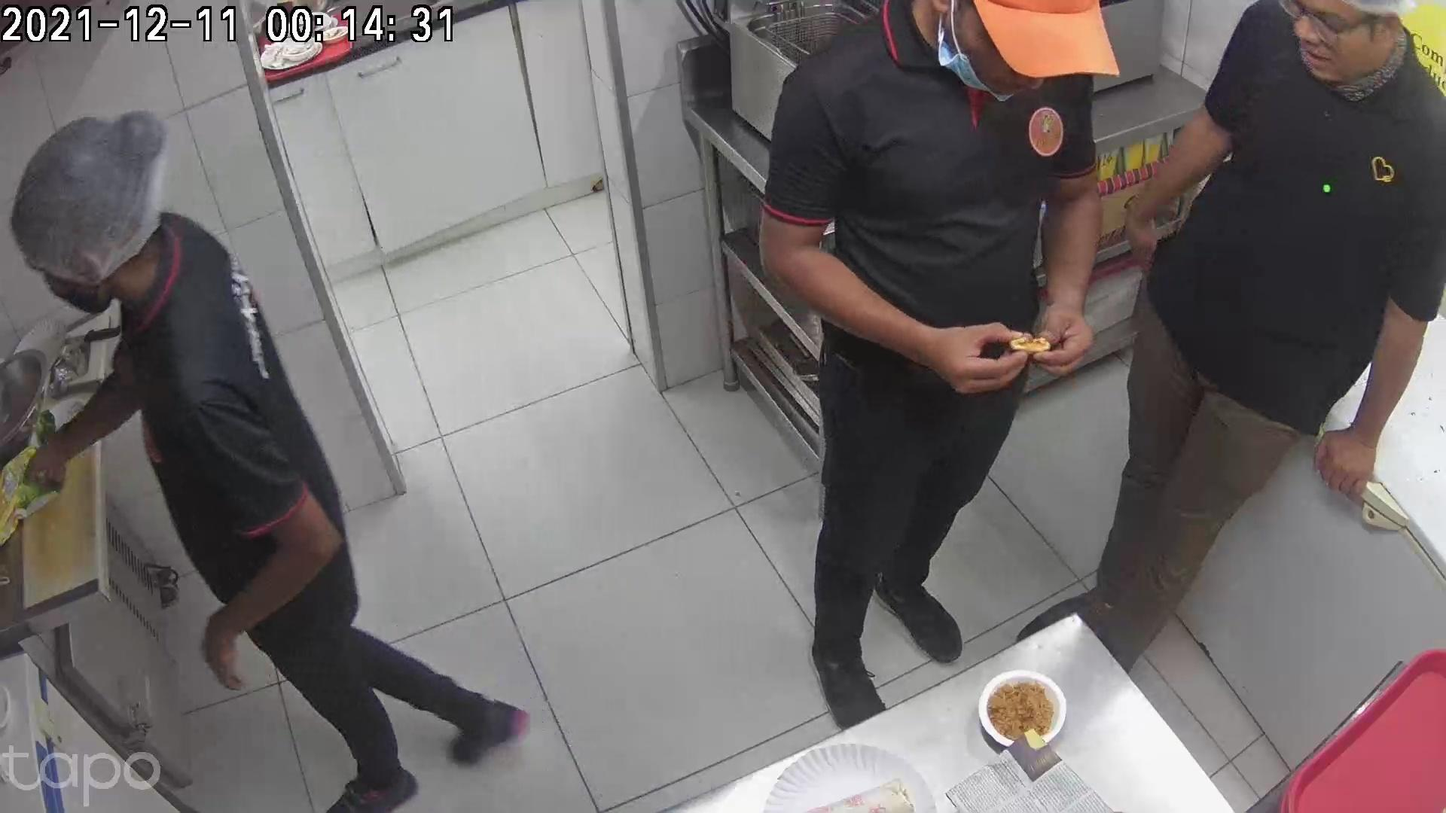gloves: (883, 622, 989, 745)
no_gloves: (1038, 588, 1115, 719)
